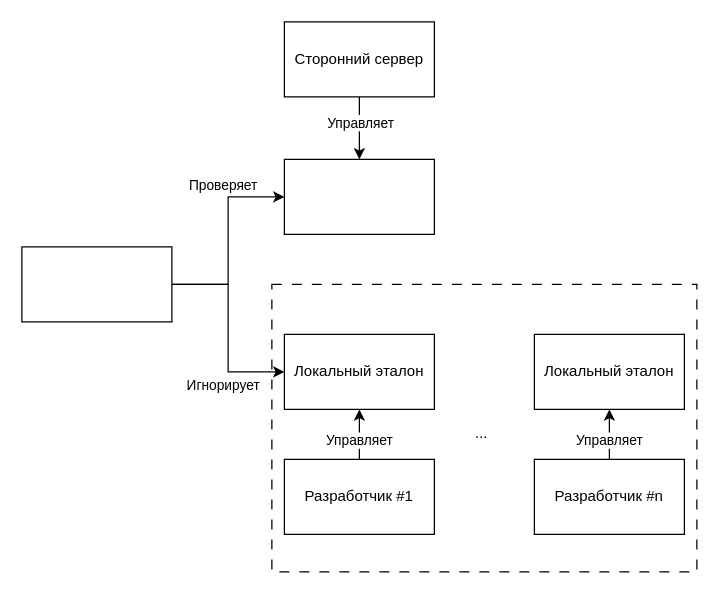
The diagram is 719 pixels wide and 594 high, and some of its shapes have lost their labels. The shapes that lost their labels are listed below. From the top down, each one's box as (x1, y1, x2, y2) in pixels, then its label:
(283, 158, 434, 234): Глобальный эталон
(21, 246, 172, 322): Ревьювер
